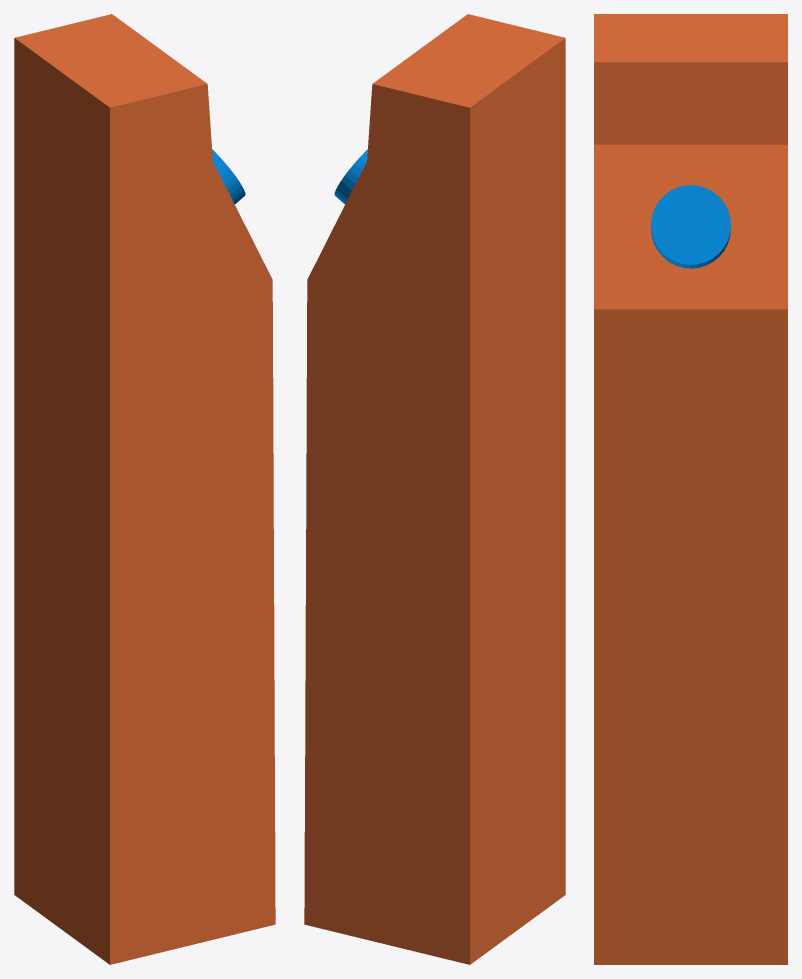
Rendered from button blue.fbx.
3 views of the same model, side by side, from view 1: azimuth 30°, elevation 25°; view 2: azimuth 150°, elevation 25°; view 3: azimuth 270°, elevation 25° (orthographic).
Visible parts, largest first — view 1: Cube, Cylinder; view 2: Cube, Cylinder; view 3: Cube, Cylinder.
Boxes of the visible parts, x1=… form: Cube: x1=14, y1=14, x2=275, y2=964; Cylinder: x1=212, y1=149, x2=245, y2=204; Cube: x1=304, y1=14, x2=565, y2=964; Cylinder: x1=334, y1=149, x2=367, y2=204; Cube: x1=594, y1=14, x2=787, y2=964; Cylinder: x1=651, y1=185, x2=730, y2=268.
Size of the model in its own units: 2041 by 9581 by 1937.
